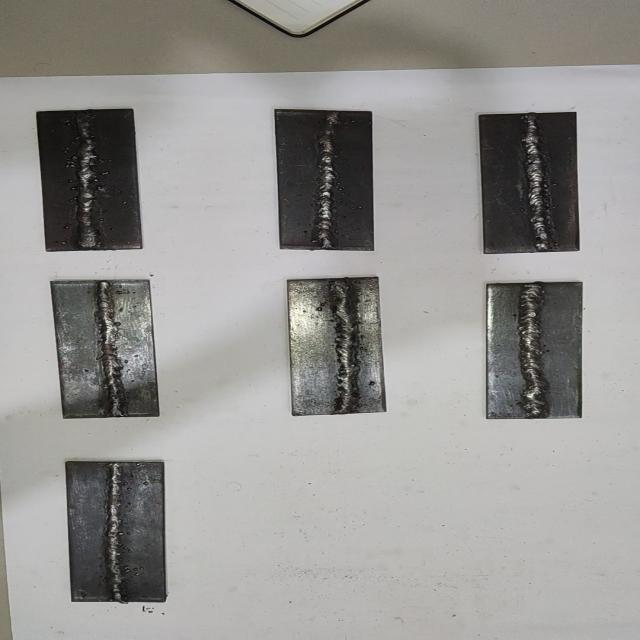Welding Line: (519, 116, 553, 250), (96, 282, 124, 416), (72, 111, 98, 248), (521, 285, 548, 416), (331, 282, 358, 412), (316, 110, 338, 248), (106, 463, 126, 601)
Workpiece: (48, 278, 162, 420), (34, 108, 146, 251), (282, 276, 392, 416), (476, 111, 584, 252), (64, 458, 169, 602), (273, 107, 375, 250), (485, 282, 587, 421)
